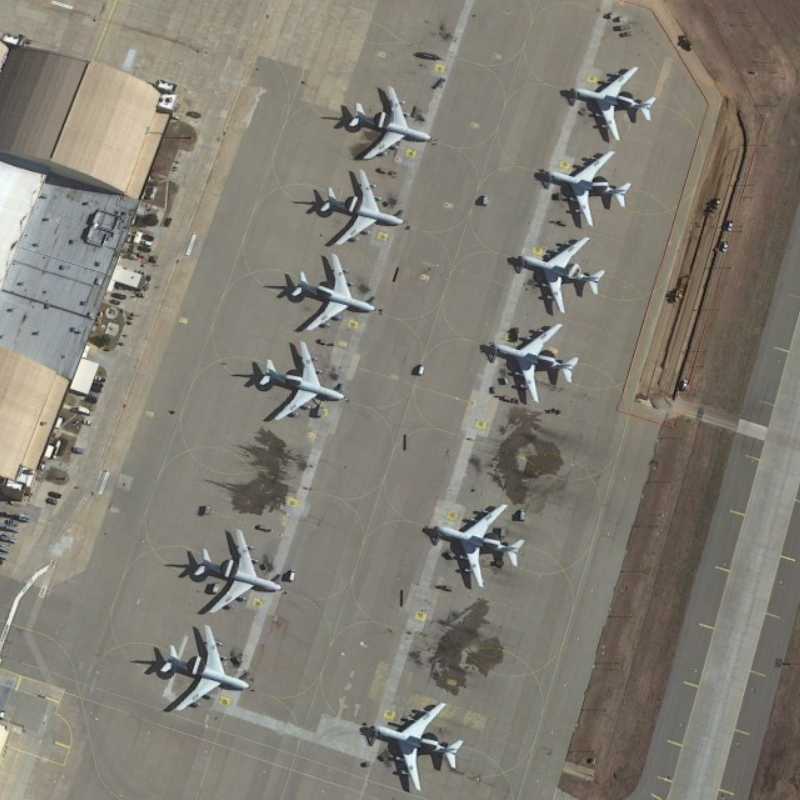A7: (184, 522, 287, 622), (361, 699, 466, 794), (153, 619, 254, 714), (426, 502, 527, 594), (483, 322, 586, 408), (251, 337, 348, 426), (535, 147, 637, 231), (286, 250, 382, 336), (511, 235, 608, 318), (316, 165, 409, 248), (344, 79, 436, 161), (569, 65, 663, 145)
